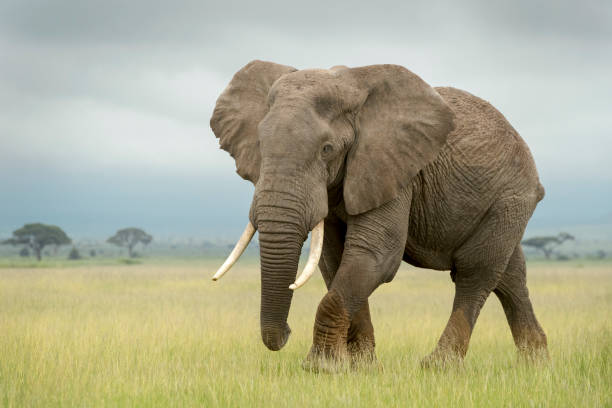africanelephant: (211, 59, 366, 308)
